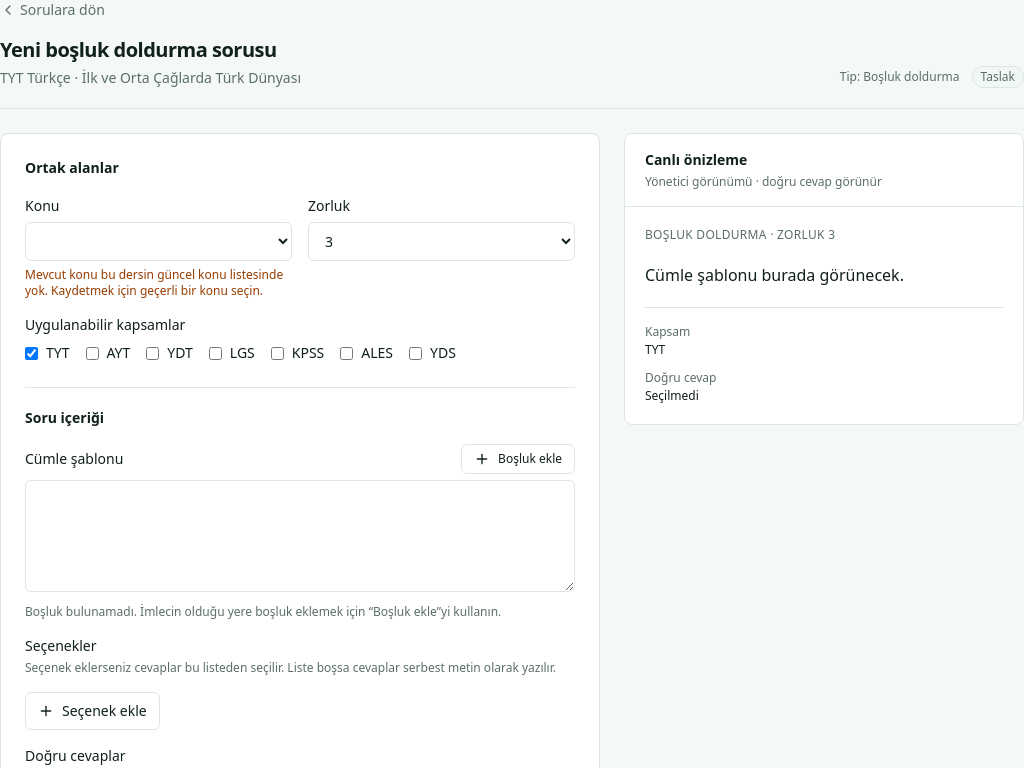
fill blank create editor › inserts a placeholder at the caret and grows the answer list
Expected: the heading "Yeni boşluk doldurma sorusu" is shown, [0,36,301,64]
Type "Türklerde  denir." into the text box labelled "Cümle şablonu" at (300, 536), box [25,480,575,592]
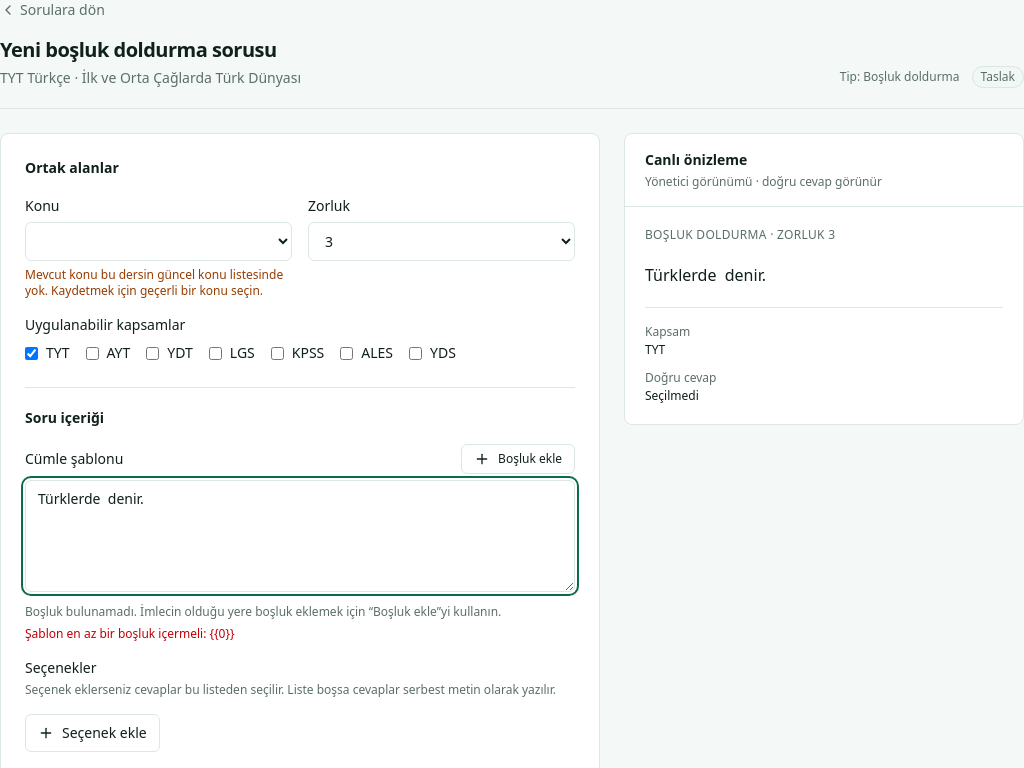
Click the button "Boşluk ekle" at (518, 459), box [461,444,575,474]
(page scrolled)
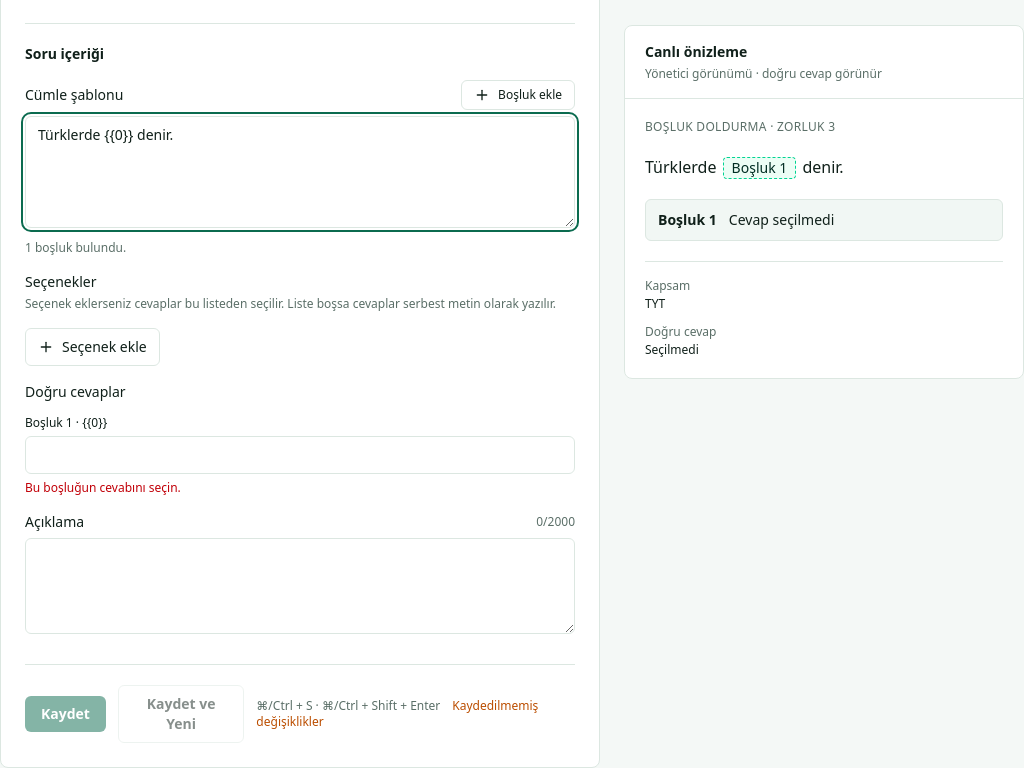
Expected: the text box labelled "Cümle şablonu" holds "Türklerde {{0}} denir.", [25,116,575,228]
Expected: the text "1 boşluk bulundu." is shown, [25,238,126,256]
Expected: the field labelled "Boşluk 1 · {{0}}" is shown, [25,436,575,474]
